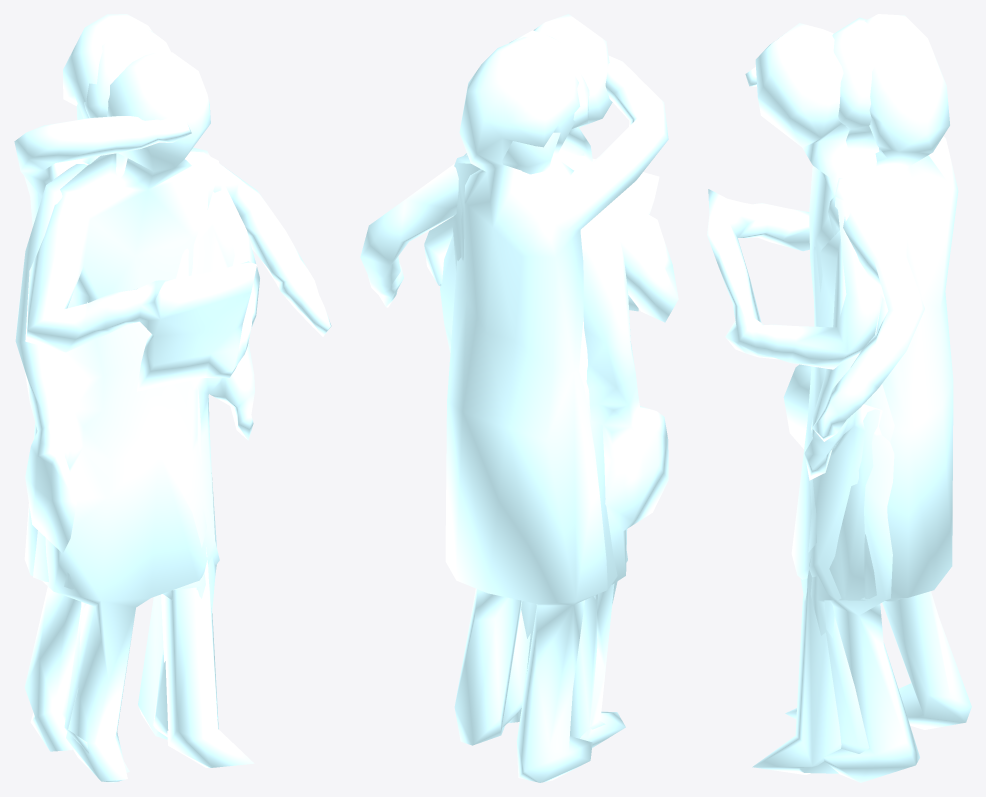
The model's file is echo_crowd.glb.
The picture shows the model from 3 angles, left to right: view 1: azimuth 30°, elevation 25°; view 2: azimuth 150°, elevation 25°; view 3: azimuth 270°, elevation 25°; orthographic projection. The views are drawn at different scales.
Parts seen in each view (by area): view 1: pose_a, pose_b, pose_c; view 2: pose_c, pose_a, pose_b; view 3: pose_c, pose_b, pose_a.
Boxes of the visible parts, x1=… form: pose_a: x1=15, y1=27, x2=254, y2=782; pose_b: x1=25, y1=52, x2=259, y2=772; pose_c: x1=14, y1=14, x2=331, y2=767; pose_c: x1=360, y1=37, x2=668, y2=782; pose_a: x1=440, y1=30, x2=668, y2=747; pose_b: x1=424, y1=14, x2=678, y2=738; pose_c: x1=745, y1=14, x2=971, y2=774; pose_b: x1=707, y1=23, x2=902, y2=773; pose_a: x1=783, y1=17, x2=919, y2=782.
Bounding box in the file's own units: 0.7493 × 1.72 × 0.5634.
